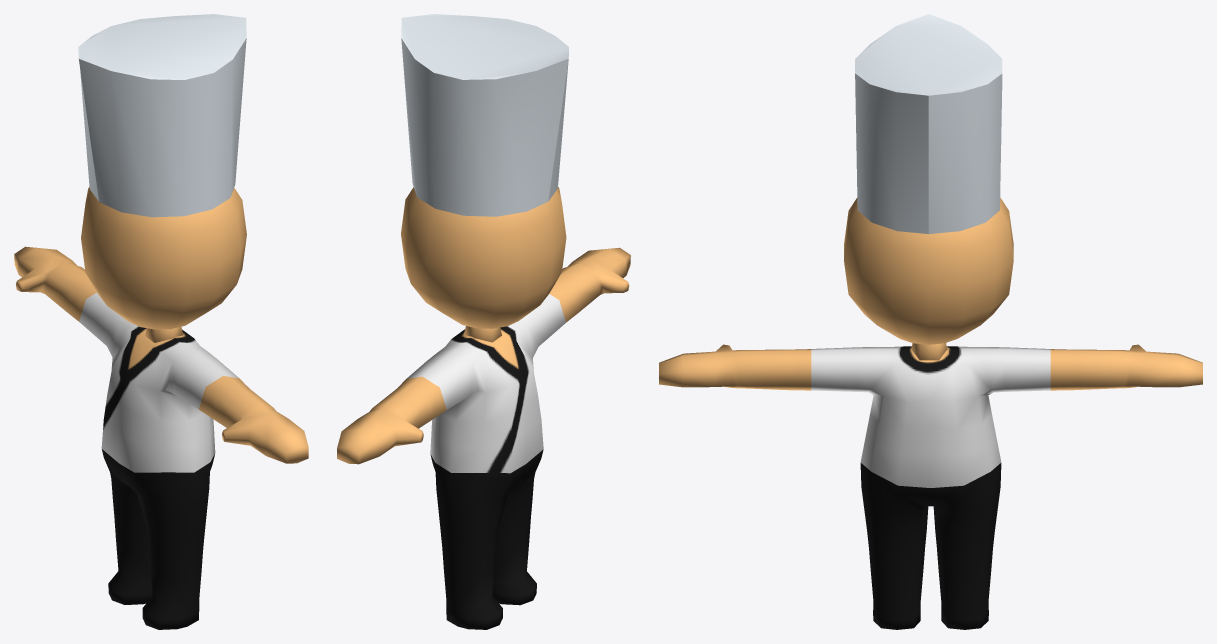
Rendered from cha03_chief.FBX.
The picture shows the model from 3 angles, left to right: view 1: azimuth 30°, elevation 25°; view 2: azimuth 150°, elevation 25°; view 3: azimuth 270°, elevation 25°; orthographic projection.
Parts seen in each view (by area): view 1: cha03_chief, Cylinder151; view 2: cha03_chief, Cylinder151; view 3: cha03_chief, Cylinder151.
Boxes of the visible parts, left/top/right/bottom form: cha03_chief: left=14, top=187, right=308, bottom=629; Cylinder151: left=78, top=14, right=246, bottom=217; cha03_chief: left=337, top=186, right=630, bottom=629; Cylinder151: left=401, top=14, right=568, bottom=216; cha03_chief: left=659, top=198, right=1202, bottom=629; Cylinder151: left=855, top=14, right=1002, bottom=234.
Bounding box in the file's own units: 0.8662 × 2.8 × 2.44.
